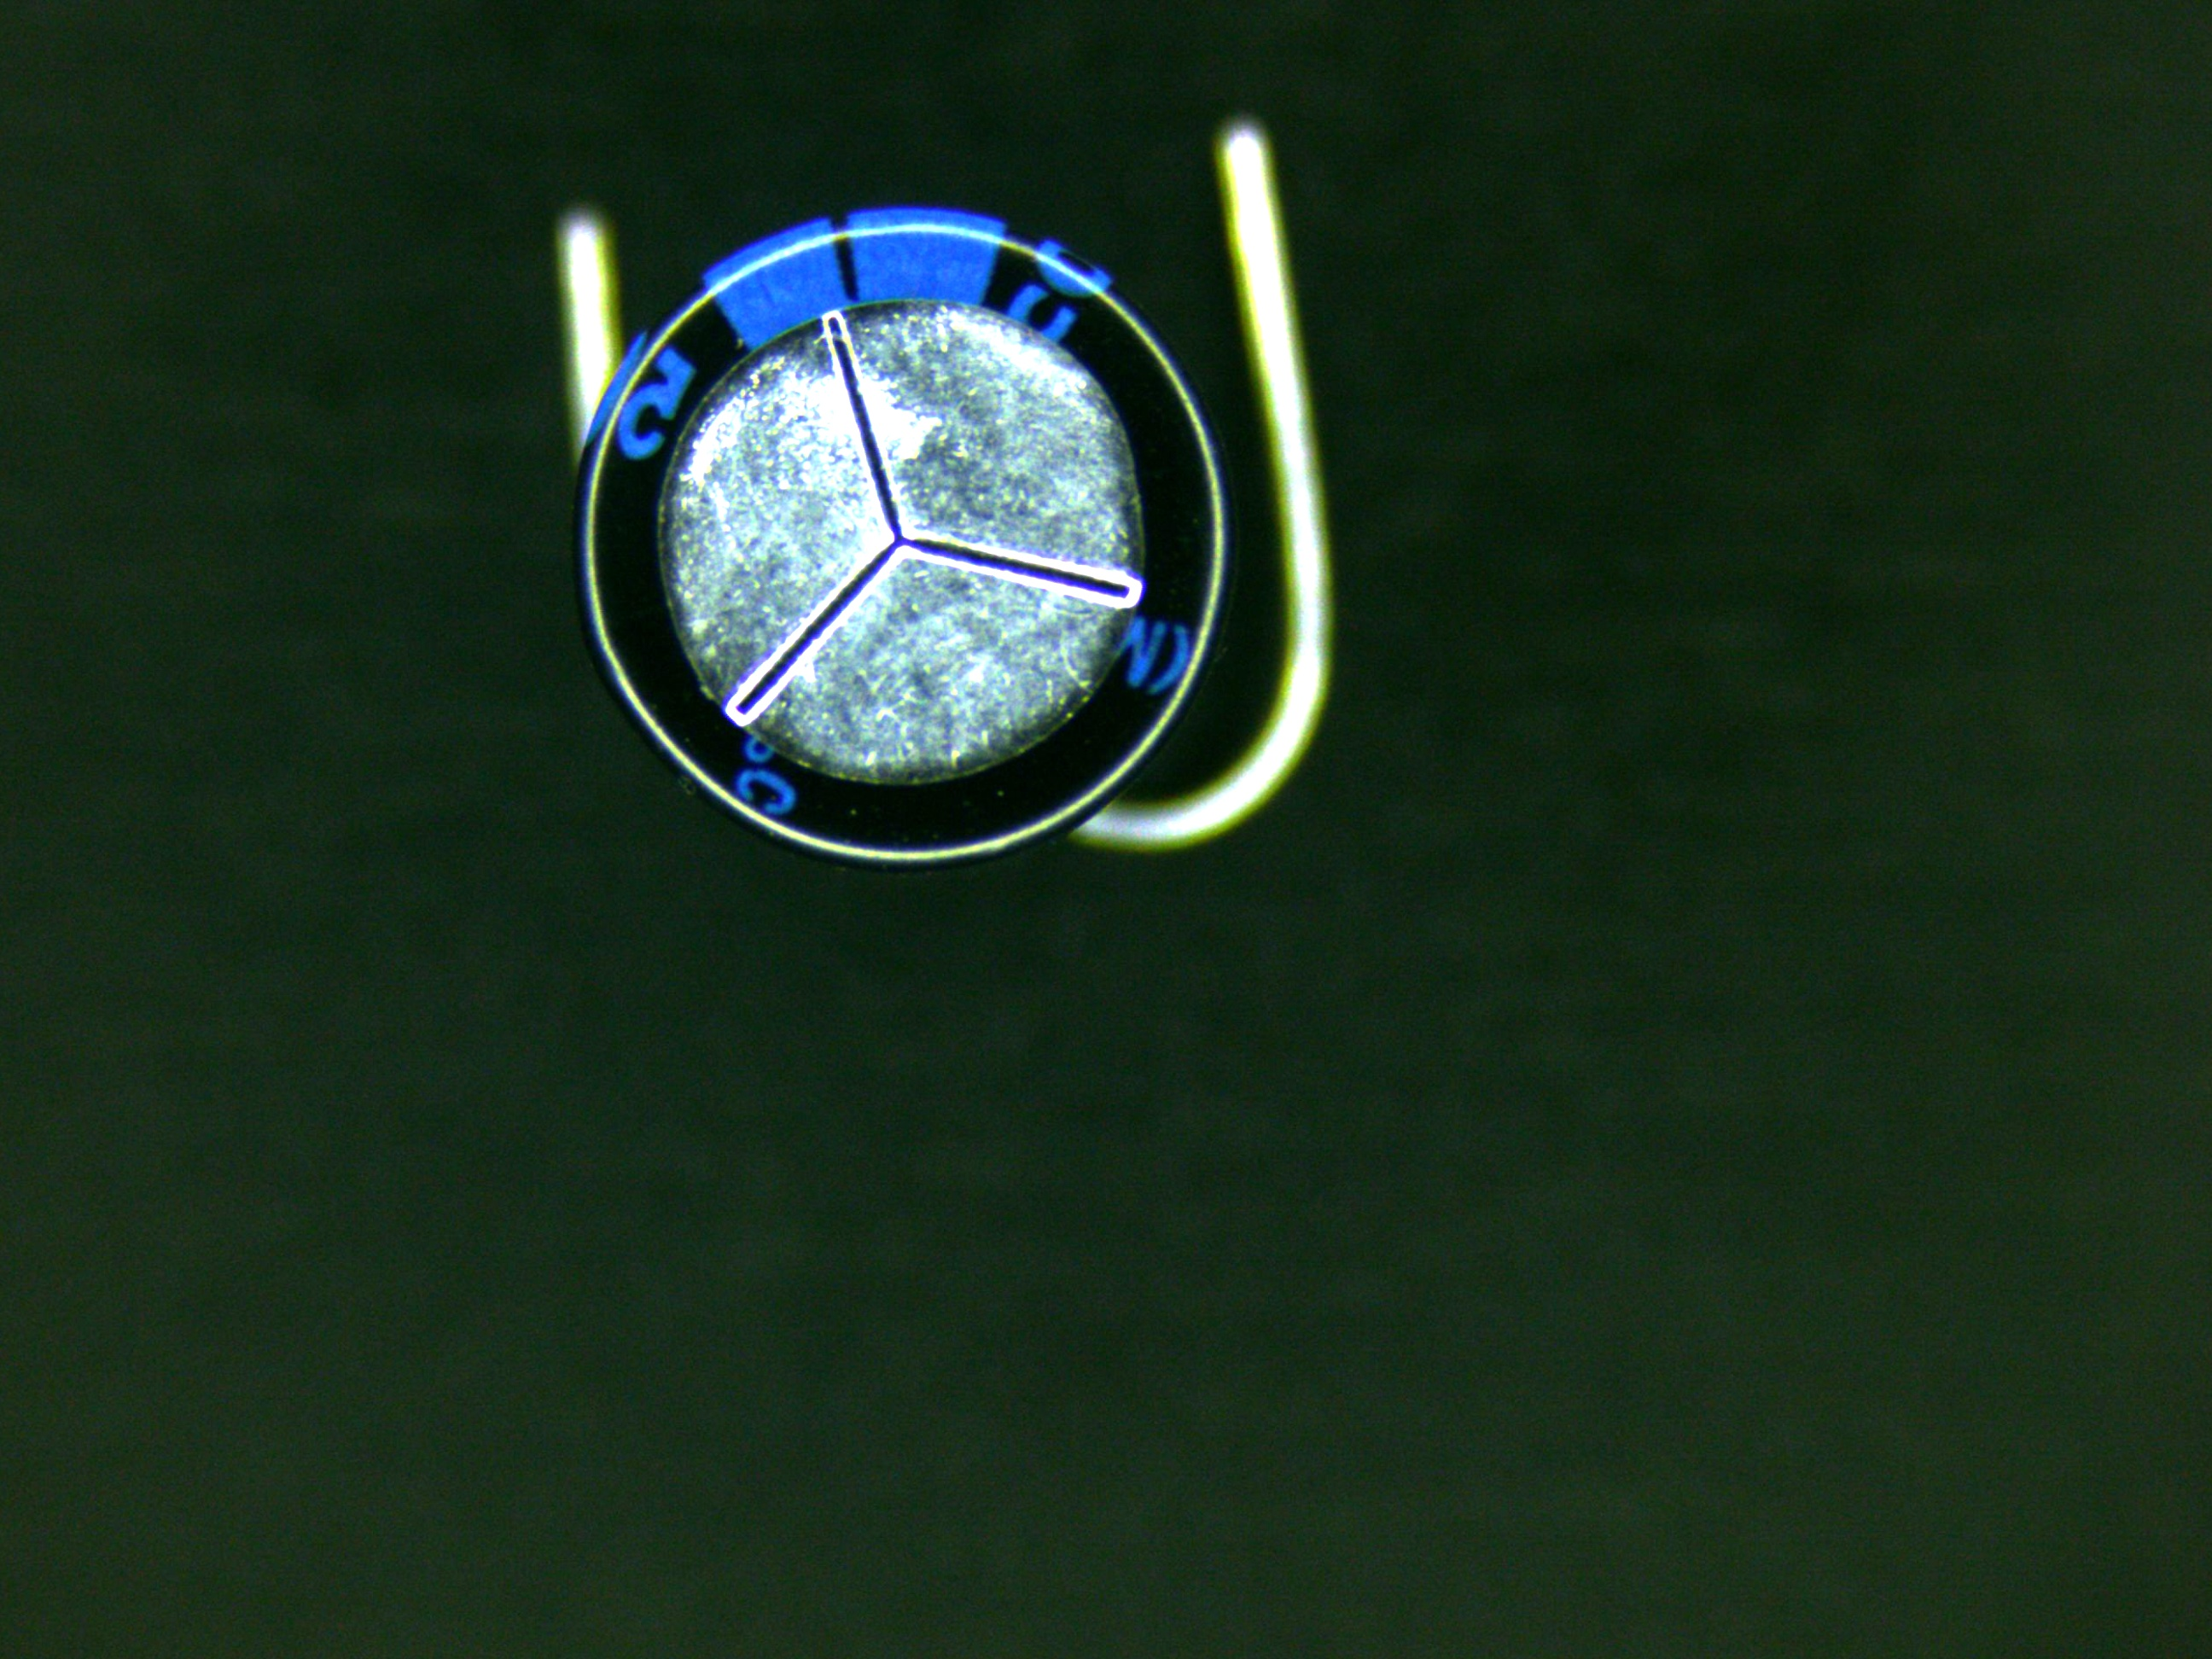c2: (575, 202, 1216, 866)
